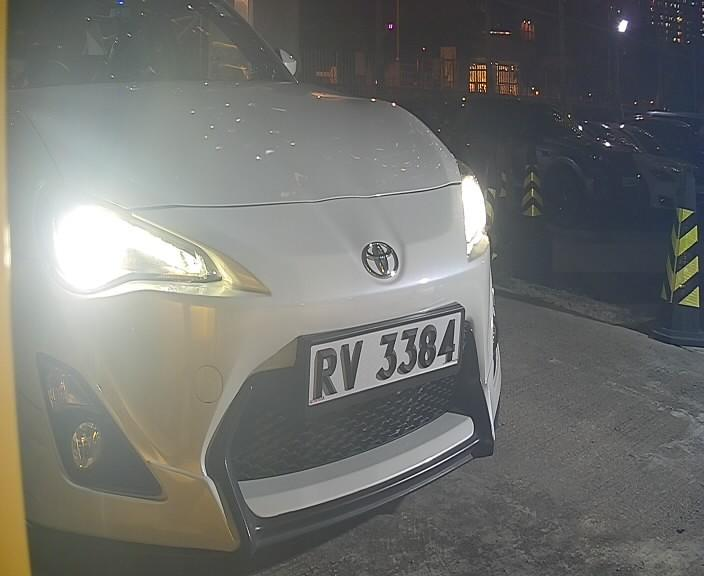Car: (4, 29, 576, 538)
License Plate: (292, 301, 475, 418)
